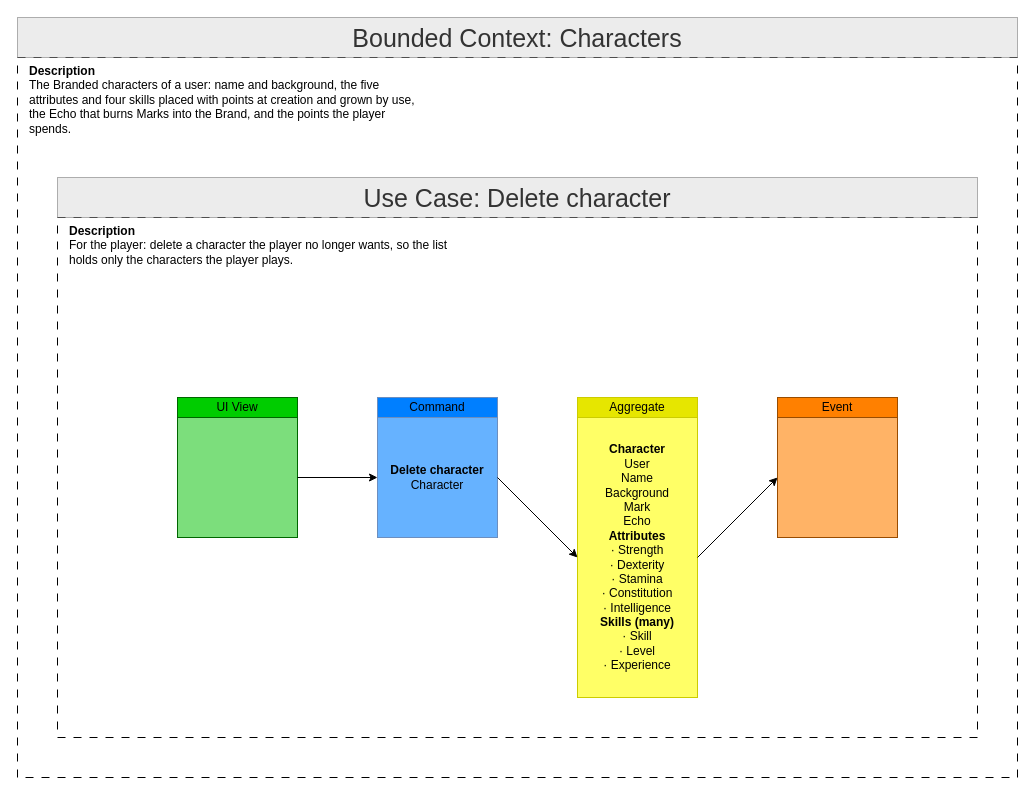
This 1035x795 diagram has some shape labels left out. The centre of each missing label's shape, as x and y in pixels:
"Character deleted" belongs at (837,477).
"Characters Player" belongs at (237,477).
